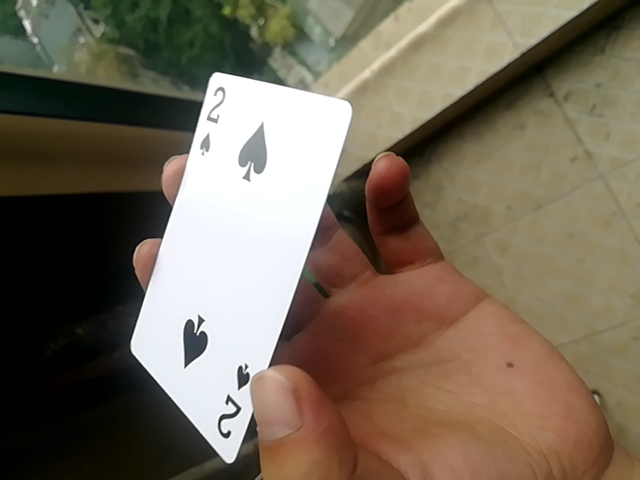ht 2: (115, 67, 352, 471)
